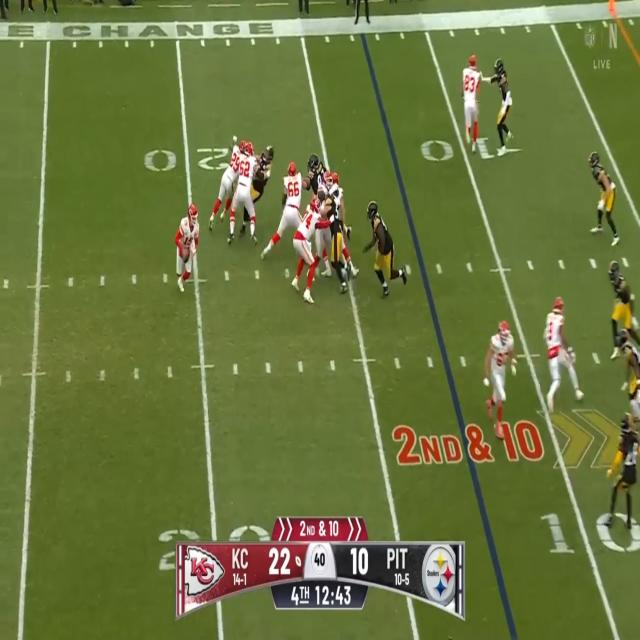Ball: (184, 247, 191, 264)
